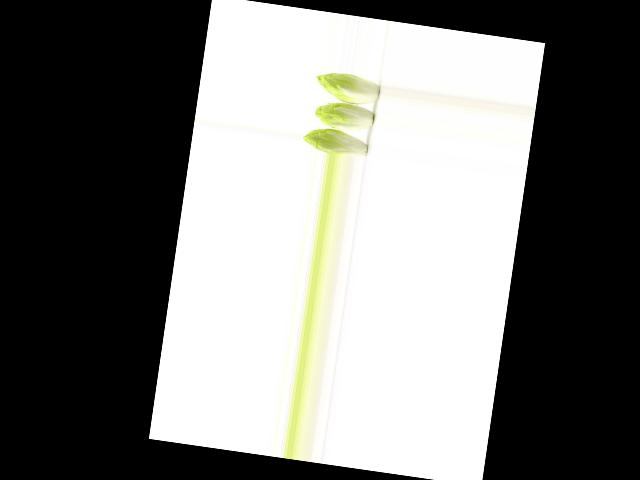lettuce: (313, 69, 384, 106)
